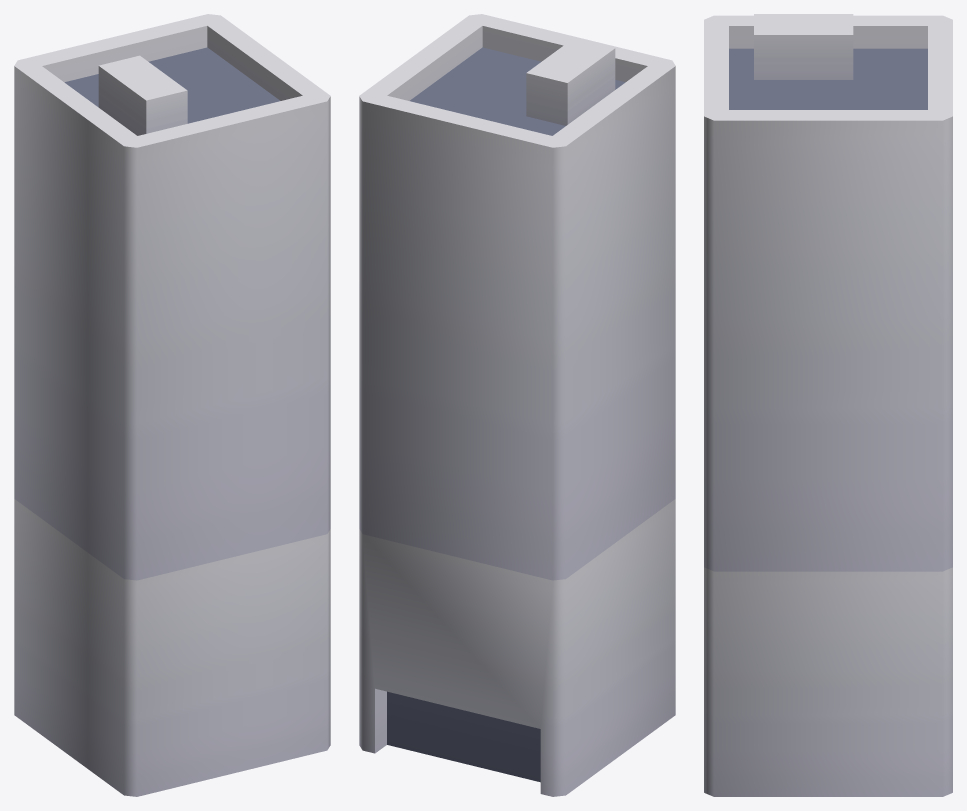
File: low-detail-building-k.glb
The picture shows the model from 3 angles, left to right: view 1: azimuth 30°, elevation 25°; view 2: azimuth 150°, elevation 25°; view 3: azimuth 270°, elevation 25°; orthographic projection. The views are drawn at different scales.
Parts seen in each view (by area): view 1: low-detail-building-k; view 2: low-detail-building-k; view 3: low-detail-building-k.
Boxes of the visible parts, left/top/right/bottom form: low-detail-building-k: left=14, top=14, right=330, bottom=796; low-detail-building-k: left=359, top=14, right=675, bottom=796; low-detail-building-k: left=704, top=14, right=952, bottom=796.
Size of the model in its own units: 0.5 by 1.55 by 0.5.
Materials: 1 (1 with a texture image).
